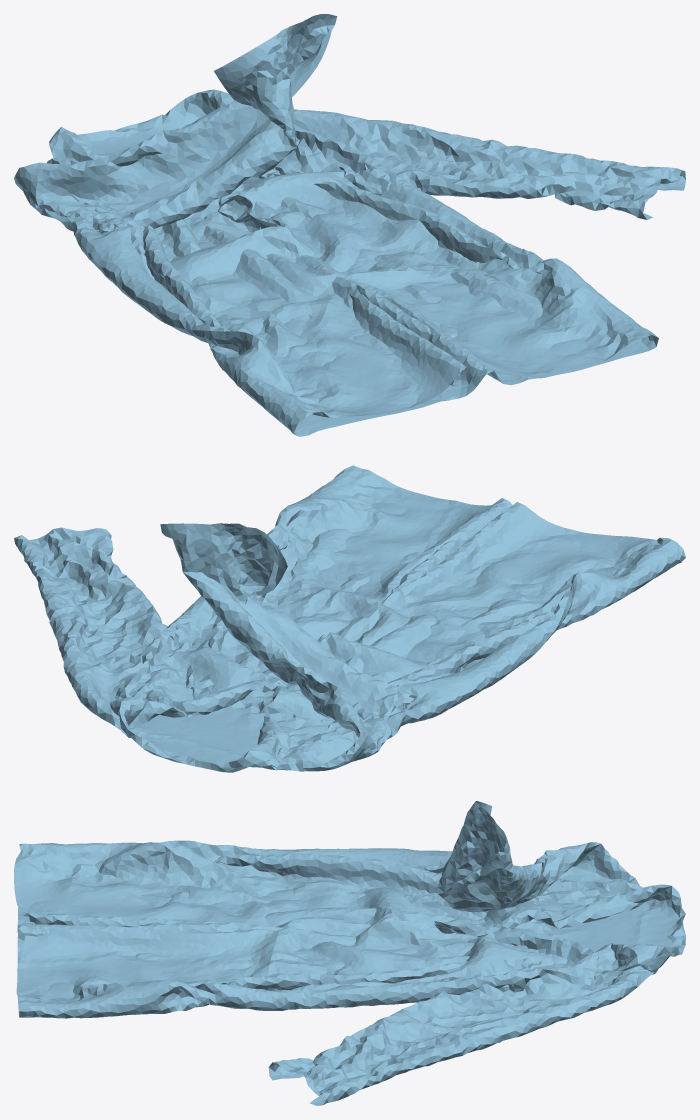
The model's file is frame_18.glb.
The picture shows the model from 3 angles, top to bottom: view 1: azimuth 30°, elevation 25°; view 2: azimuth 150°, elevation 25°; view 3: azimuth 270°, elevation 25°; orthographic projection. The views are drawn at different scales.
Parts seen in each view (by area): view 1: frame_18.obj; view 2: frame_18.obj; view 3: frame_18.obj.
Part boxes in pixels (x1,y1,x2,y2): frame_18.obj: (14, 14, 685, 436); frame_18.obj: (14, 465, 685, 772); frame_18.obj: (14, 801, 685, 1105).
Bounding box in the file's own units: 1.49 × 0.4312 × 1.68.
